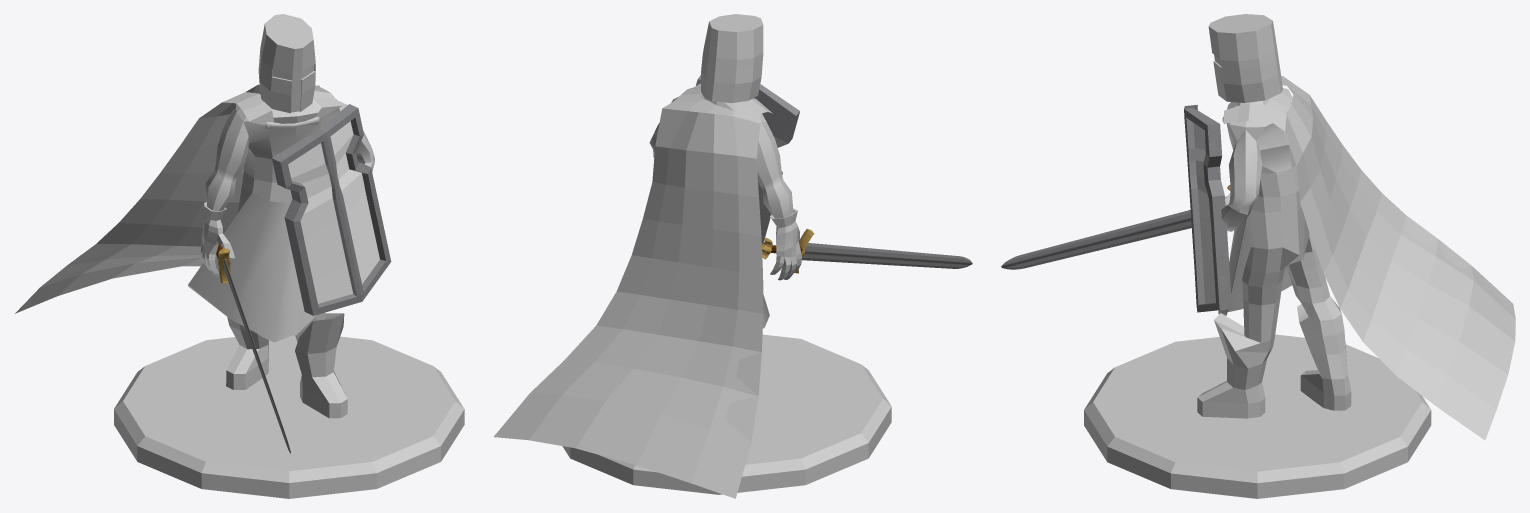
The model's file is Templar_test_2.fbx.
3 renders of one model, left to right at view 1: azimuth 30°, elevation 25°; view 2: azimuth 150°, elevation 25°; view 3: azimuth 270°, elevation 25°, orthographic.
Visible parts, largest first — view 1: polySurface10, polySurface3, polySurface2; view 2: polySurface10, polySurface2, polySurface3; view 3: polySurface10, polySurface3, polySurface2.
Part boxes in pixels (x1=…): polySurface10: x1=15, y1=14, x2=464, y2=498; polySurface3: x1=272, y1=104, x2=391, y2=315; polySurface2: x1=216, y1=243, x2=290, y2=453; polySurface10: x1=494, y1=14, x2=891, y2=498; polySurface2: x1=762, y1=229, x2=972, y2=273; polySurface3: x1=696, y1=75, x2=799, y2=244; polySurface10: x1=1084, y1=14, x2=1515, y2=498; polySurface3: x1=1184, y1=104, x2=1232, y2=312; polySurface2: x1=1001, y1=185, x2=1230, y2=269.
Size of the model in its own units: 200 by 255 by 296.
